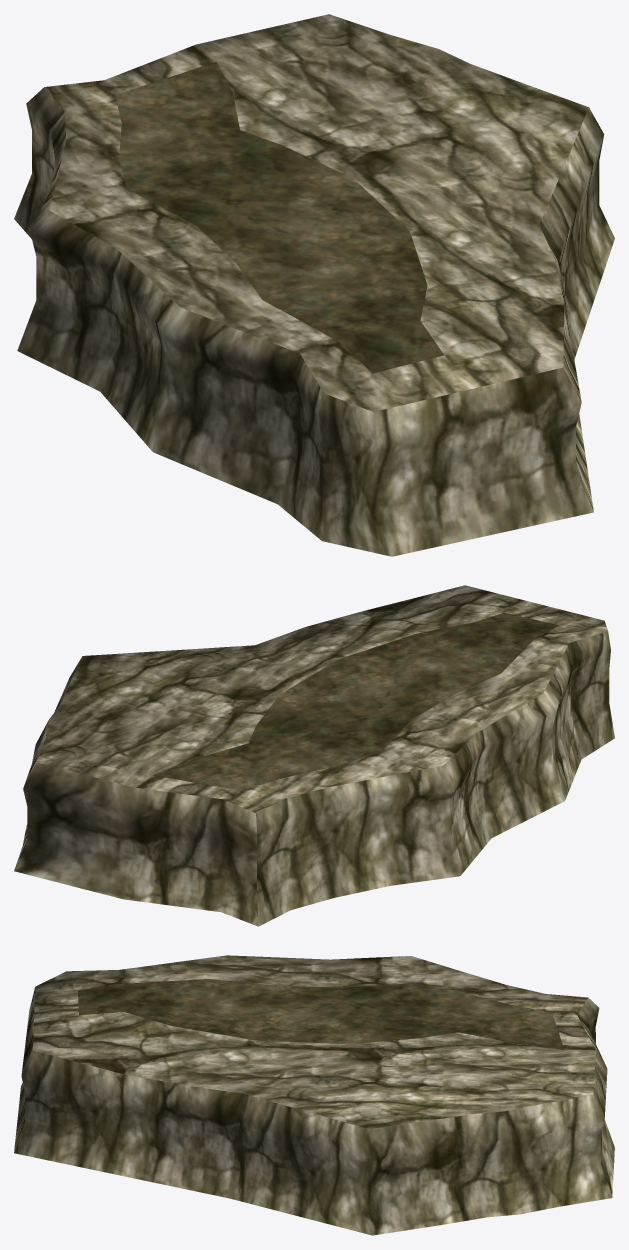
Rendered from CB_NEWPLAYSURFACE_CB_PLAYSURFACE75.fbx.
3 renders of one model, top to bottom at view 1: azimuth 30°, elevation 25°; view 2: azimuth 150°, elevation 25°; view 3: azimuth 270°, elevation 25°, orthographic. The views are drawn at different scales.
Visible parts, largest first — view 1: CB_NEWPLAYSURFACE_CB_PLAYSURFACE75; view 2: CB_NEWPLAYSURFACE_CB_PLAYSURFACE75; view 3: CB_NEWPLAYSURFACE_CB_PLAYSURFACE75.
Part boxes in pixels (<box>): CB_NEWPLAYSURFACE_CB_PLAYSURFACE75: <box>14,14,614,556</box>; CB_NEWPLAYSURFACE_CB_PLAYSURFACE75: <box>14,585,614,926</box>; CB_NEWPLAYSURFACE_CB_PLAYSURFACE75: <box>14,955,614,1235</box>.
Bounding box in the file's own units: 147287 × 38909 × 194061.
Materials: 3 (3 with a texture image).
